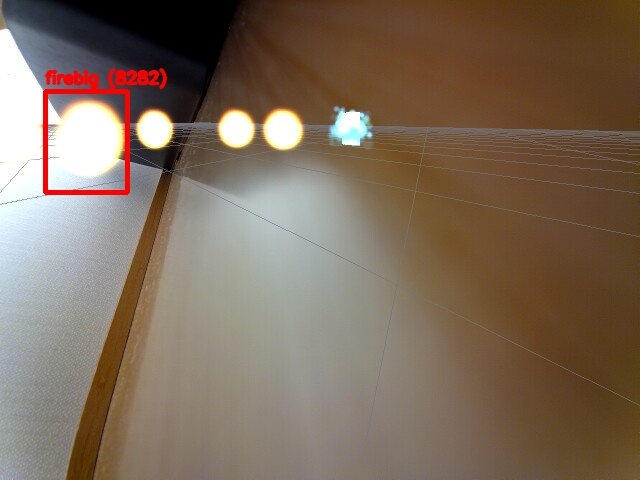firebig: (45, 91, 127, 192)
